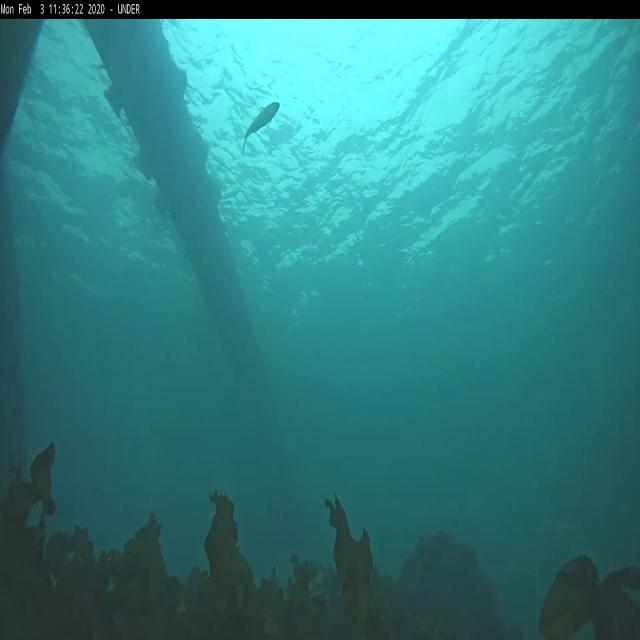fish: (244, 100, 278, 148)
